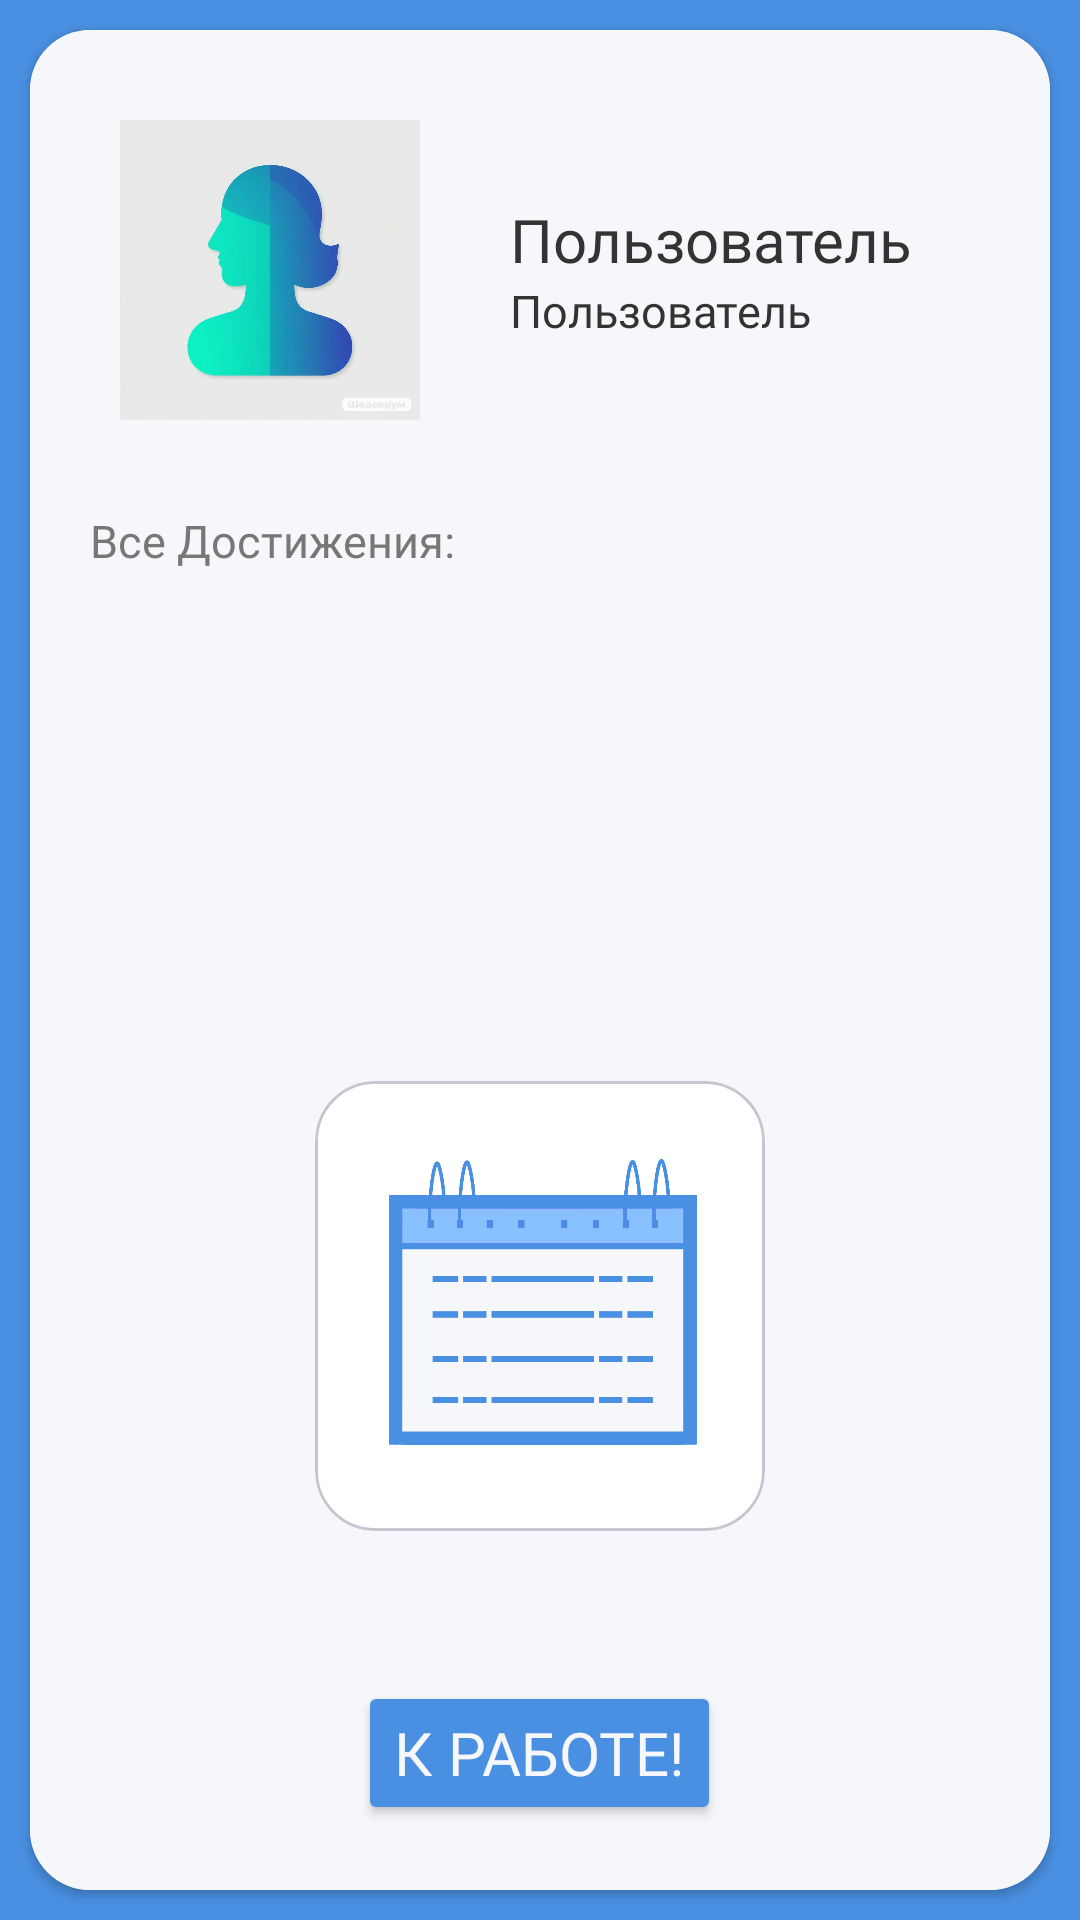

Screen size 1080px x 1920px. Icon name, then its center in pixels as [x,y]:
userico: [271,271]
